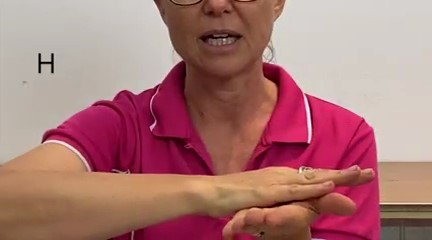H: (198, 152, 385, 238)
